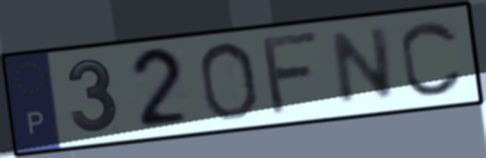2: (124, 44, 199, 136)
3: (64, 55, 120, 138)
C: (398, 18, 467, 99)
F: (260, 28, 325, 119)
N: (330, 23, 398, 109)
O: (195, 38, 261, 123)
